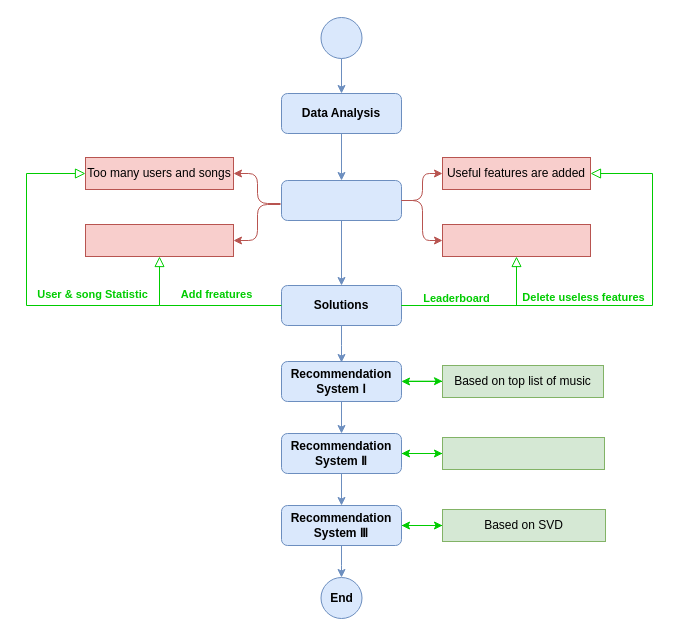
The diagram is 680 pixels wide and 636 high, and some of its shapes have lost their labels. The shapes that lost their labels are listed below. From the top down, each one's centre as x and y in pixels, then its label:
(341,37): Start
(341,200): Find Problems
(159,240): Features are too little
(516,240): "Cold start" for new users
(523,453): Based on similarity of song
